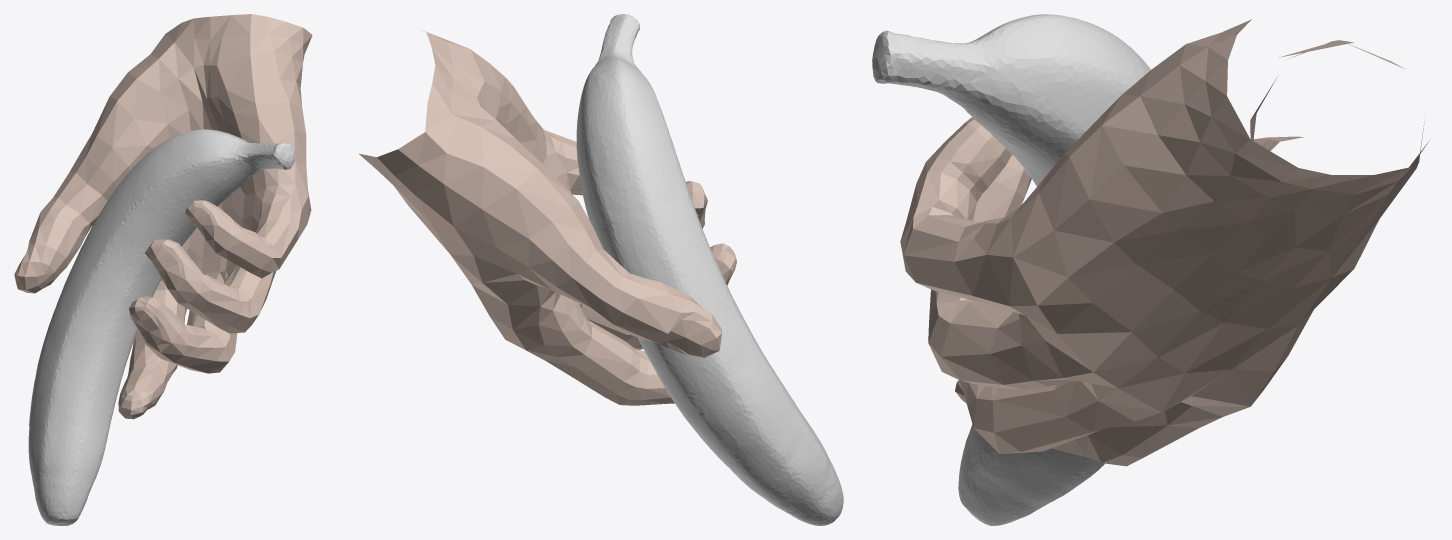
File: mano_and_object_batch0_frame1.glb
3 views of the same model, side by side, from view 1: azimuth 30°, elevation 25°; view 2: azimuth 150°, elevation 25°; view 3: azimuth 270°, elevation 25° (orthographic). The views are drawn at different scales.
Visible parts, largest first — view 1: mano, world; view 2: mano, world; view 3: mano, world.
Part boxes in pixels (x1,y1,x2,y2): mano: (14,14,312,419); world: (28,129,294,525); mano: (359,29,736,405); world: (576,14,843,525); mano: (900,19,1429,466); world: (872,14,1150,525).
Bounding box in the file's own units: 0.2788 × 0.3137 × 0.2185.
